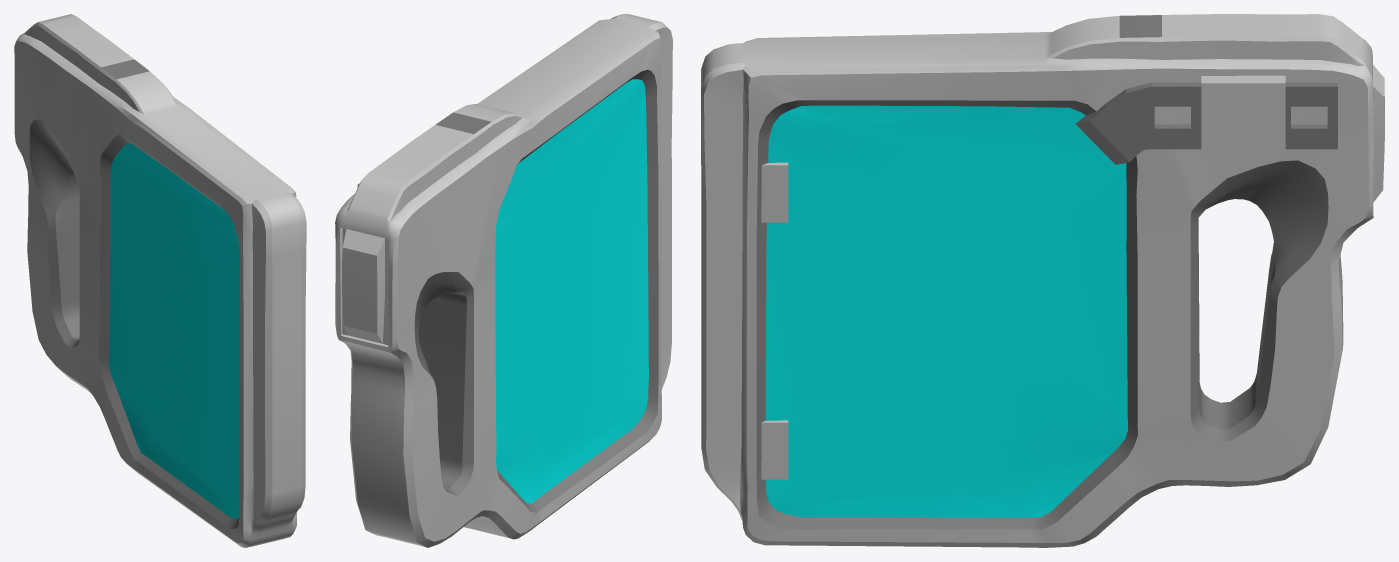
File: hand_analyzer.fbx
3 renders of one model, left to right at view 1: azimuth 30°, elevation 25°; view 2: azimuth 150°, elevation 25°; view 3: azimuth 270°, elevation 25°, orthographic. The views are drawn at different scales.
Visible parts, largest first — view 1: Hand_Analyzer_highPoly_Cube_0_node.001; view 2: Hand_Analyzer_highPoly_Cube_0_node.001; view 3: Hand_Analyzer_highPoly_Cube_0_node.001, Cube.007, Cube.008, Cube.003, Cube.004.
Boxes of the visible parts, <box> form: Hand_Analyzer_highPoly_Cube_0_node.001: <box>14,14,306,547</box>; Hand_Analyzer_highPoly_Cube_0_node.001: <box>335,14,672,547</box>; Hand_Analyzer_highPoly_Cube_0_node.001: <box>701,14,1384,547</box>; Cube.007: <box>1075,82,1337,164</box>; Cube.008: <box>1201,75,1285,159</box>; Cube.003: <box>761,162,788,222</box>; Cube.004: <box>761,420,788,479</box>.
Size of the model in its own units: 2.39 by 13 by 15.85.
